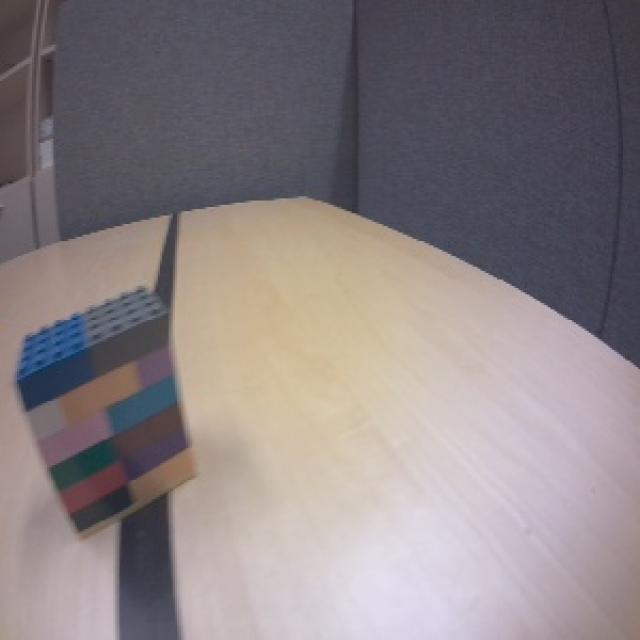obstacle: (14, 279, 202, 545)
